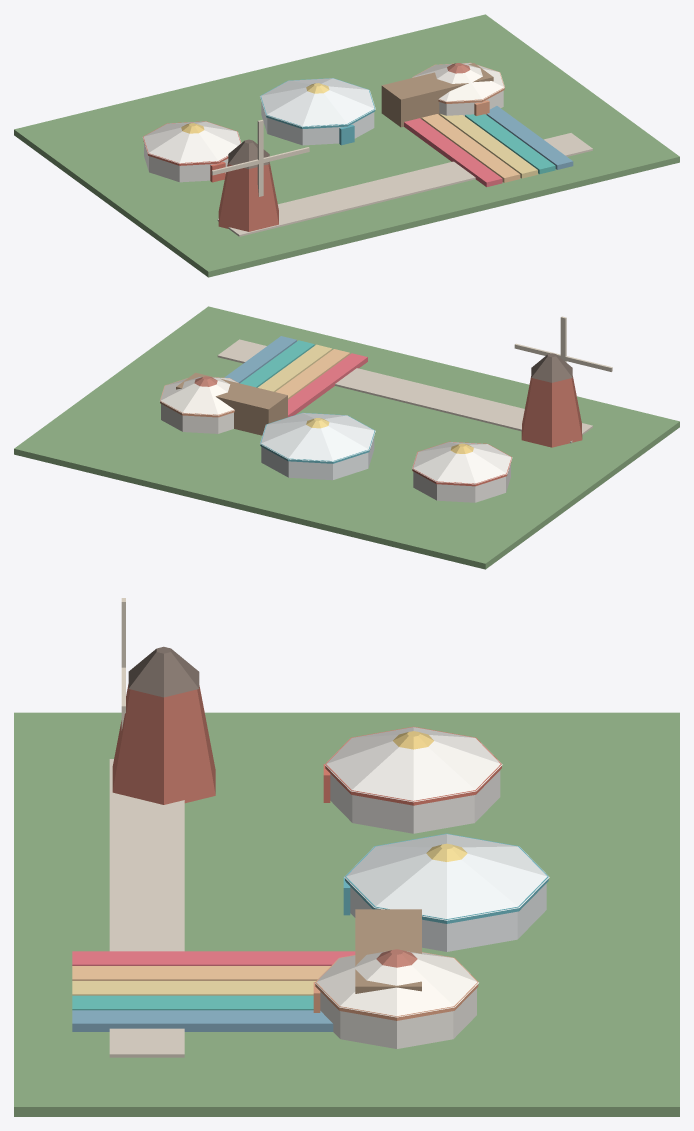
Rendered from lm_41_mongo_land_ta_nung_yurt_and_windmill_park.glb.
3 renders of one model, top to bottom at view 1: azimuth 30°, elevation 25°; view 2: azimuth 150°, elevation 25°; view 3: azimuth 270°, elevation 25°, orthographic. The views are drawn at different scales.
Parts seen in each view (by area): view 1: lm_41_mongo_land_ta_nung_yurt_and_windmill_park; view 2: lm_41_mongo_land_ta_nung_yurt_and_windmill_park; view 3: lm_41_mongo_land_ta_nung_yurt_and_windmill_park.
Boxes of the visible parts, <box> form: lm_41_mongo_land_ta_nung_yurt_and_windmill_park: <box>14,14,679,277</box>; lm_41_mongo_land_ta_nung_yurt_and_windmill_park: <box>14,306,679,569</box>; lm_41_mongo_land_ta_nung_yurt_and_windmill_park: <box>14,598,679,1116</box>.
Bounding box in the file's own units: 56 × 12.8 × 40.
